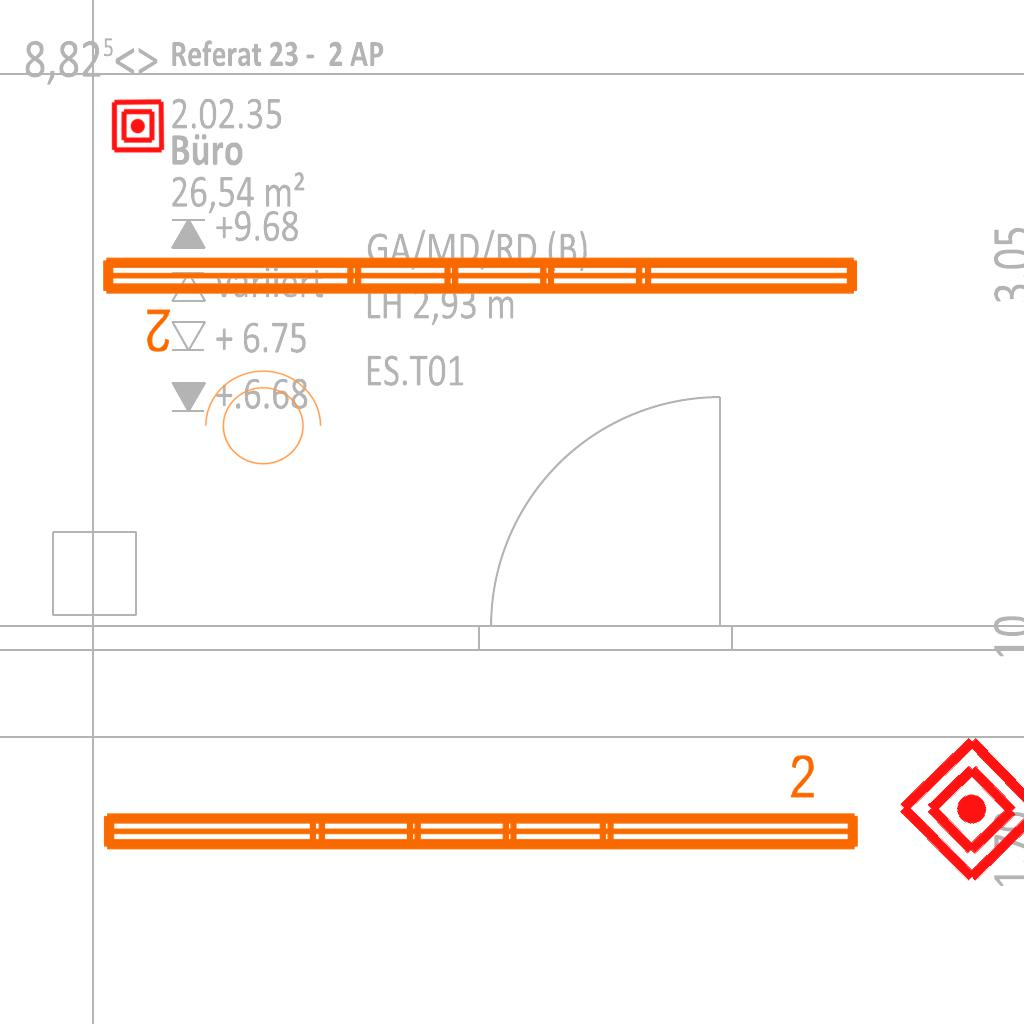Ambulanz_Pendelleuchte_LED: (94, 245, 868, 357), (93, 750, 867, 862)
NAM-Nichtautomatischer_Melder: (891, 729, 1024, 890), (110, 98, 166, 154)
Scheinwerfer_fuer_Alarmbeleuchtung: (194, 365, 326, 477)
